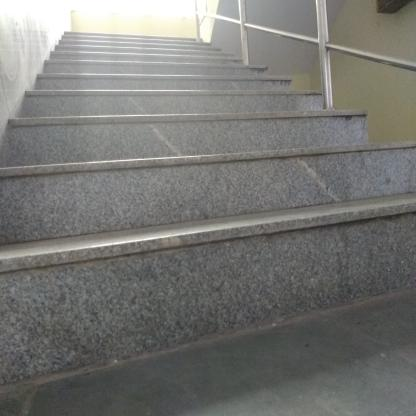stairs: (24, 92, 406, 378)
